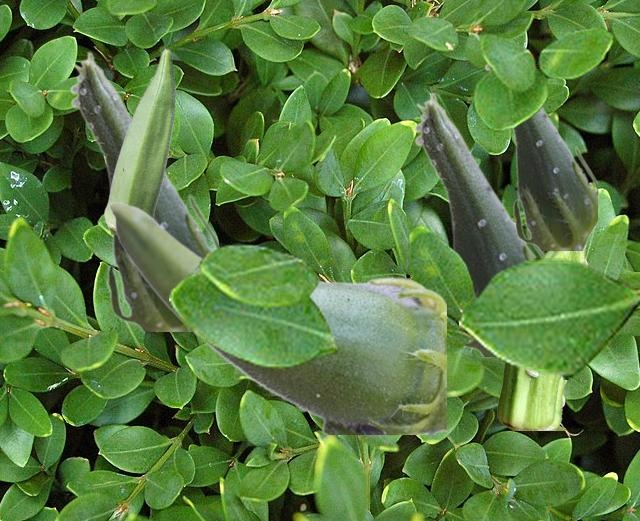okra: (108, 201, 445, 433), (69, 51, 217, 330), (413, 92, 544, 355), (497, 187, 598, 429), (484, 64, 596, 249), (104, 48, 174, 233)
